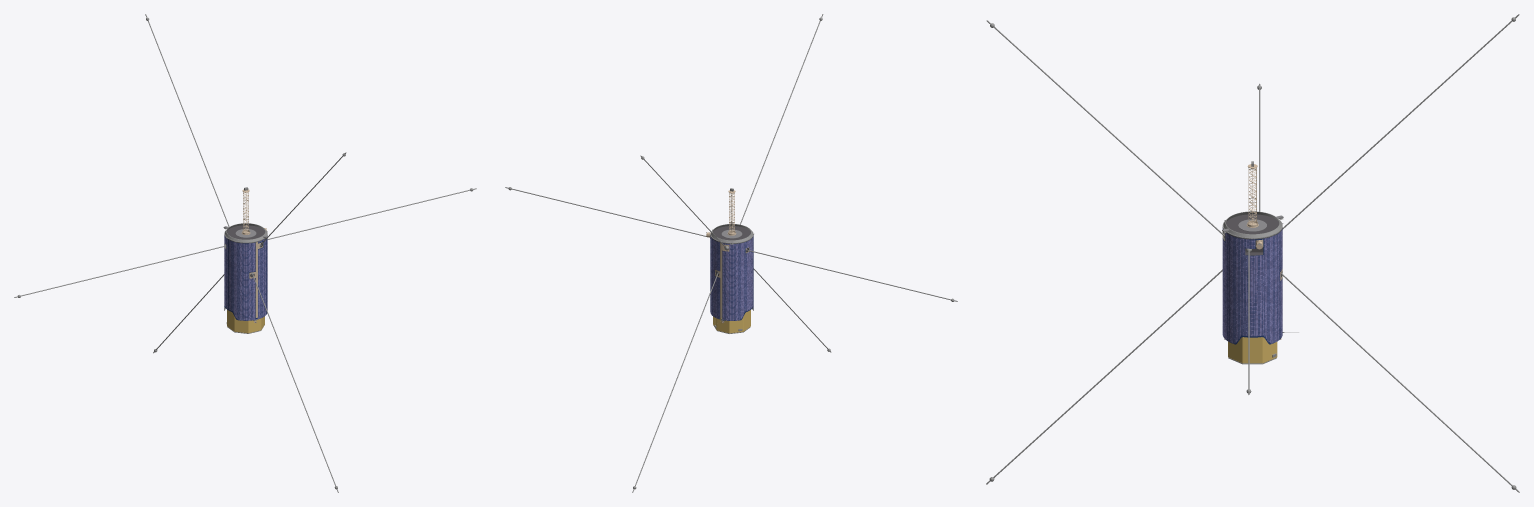
Rendered from atmosphere-space-transition-region-explorer-astre.glb.
3 views of the same model, side by side, from view 1: azimuth 30°, elevation 25°; view 2: azimuth 150°, elevation 25°; view 3: azimuth 270°, elevation 25° (orthographic). The views are drawn at different scales.
Visible parts, largest first — view 1: solarpanels, main body, booms, main bottom; view 2: solarpanels, main body, booms, main bottom; view 3: solarpanels, main body, booms, main bottom.
Boxes of the visible parts, x1,y1,x2,y2 form: solarpanels: (224,235,267,320); main body: (223,223,267,320); booms: (14,14,476,492); main bottom: (226,309,264,333); solarpanels: (710,236,753,320); main body: (709,222,753,321); booms: (505,14,957,492); main bottom: (713,310,750,333); solarpanels: (1222,228,1282,343); main body: (1222,211,1298,344); booms: (986,14,1519,492); main bottom: (1224,337,1281,364).
Bounding box in the file's own units: 110 × 78.27 × 80.01.
